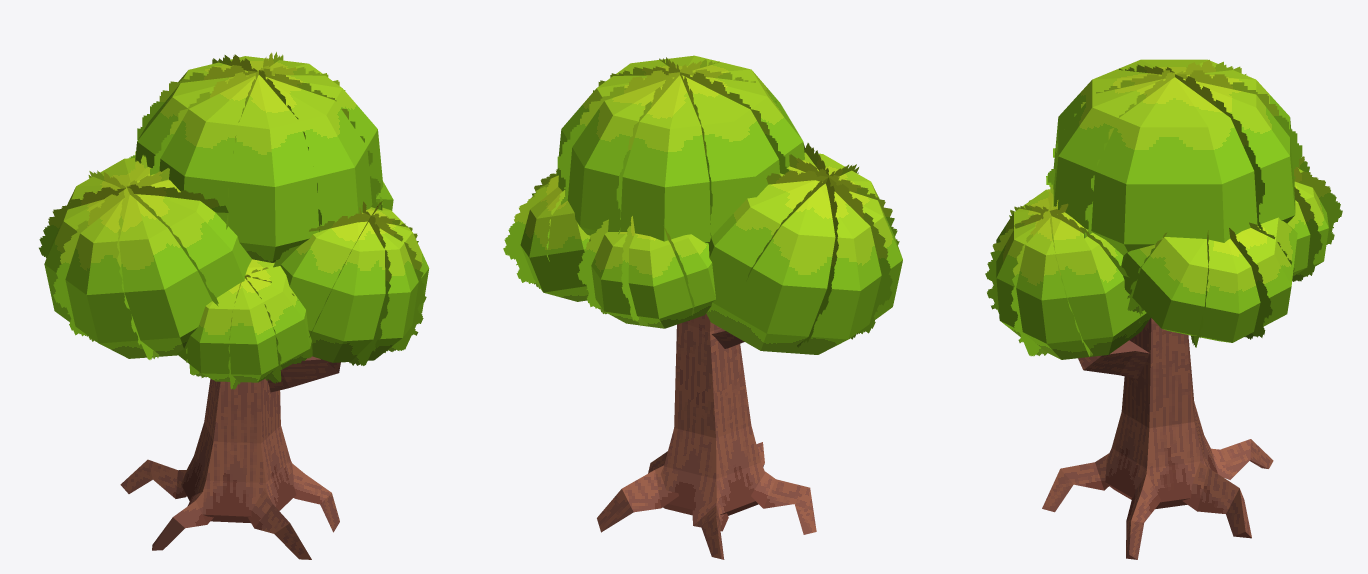
Rendered from nto_dub2.gltf.
3 renders of one model, left to right at view 1: azimuth 30°, elevation 25°; view 2: azimuth 150°, elevation 25°; view 3: azimuth 270°, elevation 25°, orthographic.
Visible parts, largest first — view 1: sphere; view 2: sphere; view 3: sphere.
Boxes of the visible parts, x1=… form: sphere: x1=39, y1=52, x2=429, y2=559; sphere: x1=503, y1=55, x2=902, y2=559; sphere: x1=985, y1=59, x2=1342, y2=559.
Bounding box in the file's own units: 8.63 × 9.72 × 7.46.
1 material, 1 textured.
